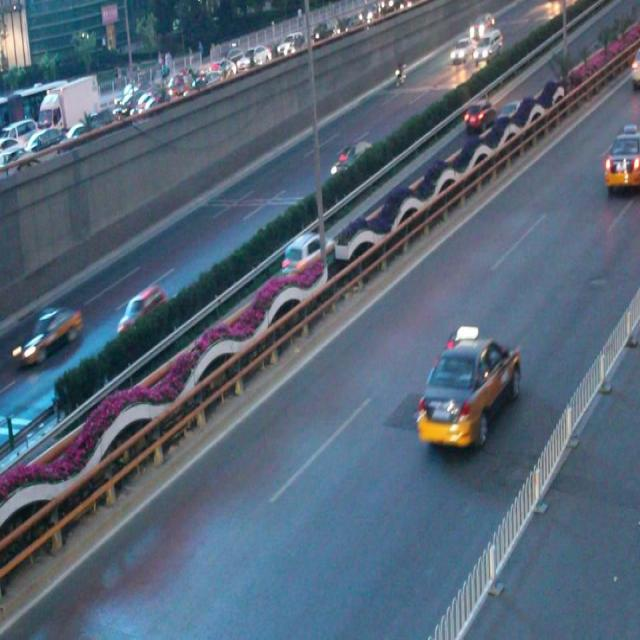car: (414, 324, 521, 449), (11, 308, 81, 365), (602, 129, 640, 192), (117, 284, 163, 334), (280, 231, 331, 269), (332, 139, 371, 180), (461, 96, 496, 134)
